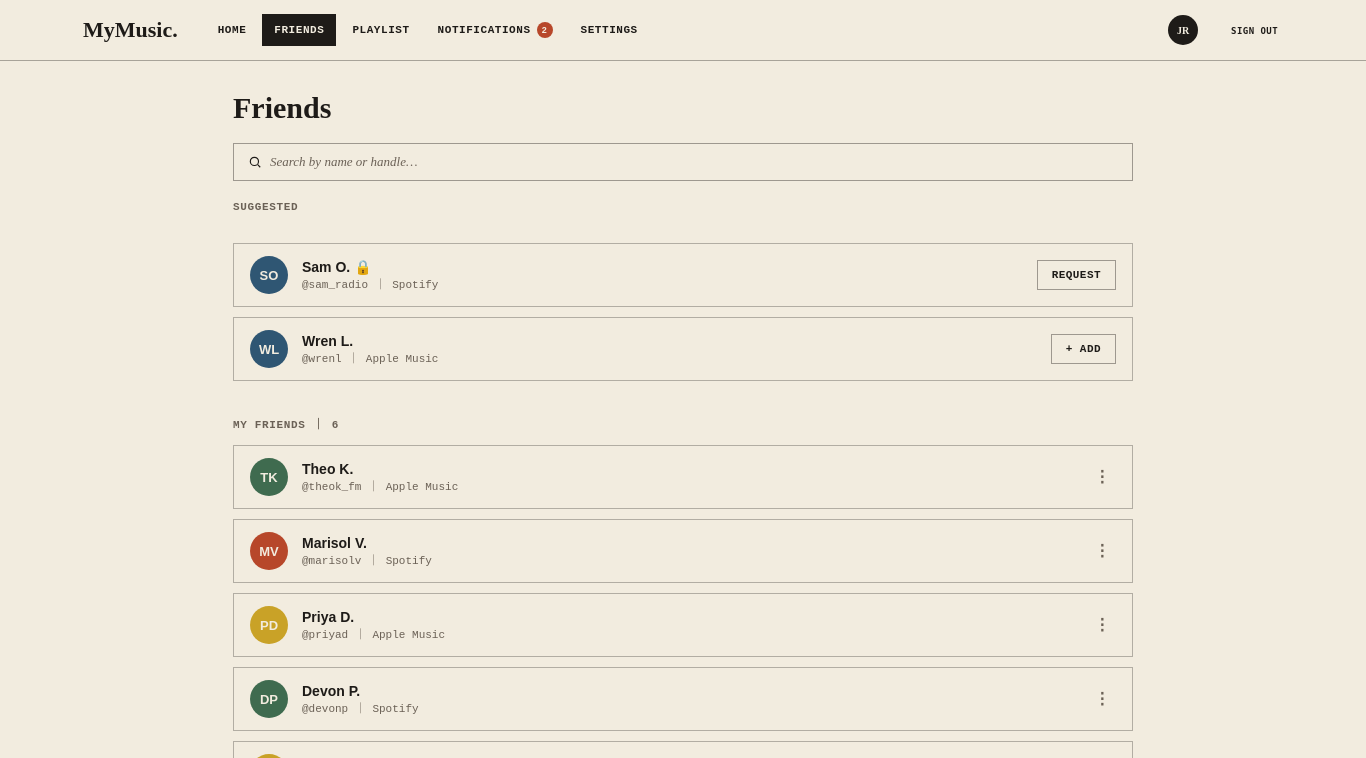
Test: friends › removes a friend only after the confirmation is accepted
What coordinates should you click on to do the following:
click the button named "Options for Theo K."
I would click on:
 (1102, 477)
Its box is [1088,469,1116,485].
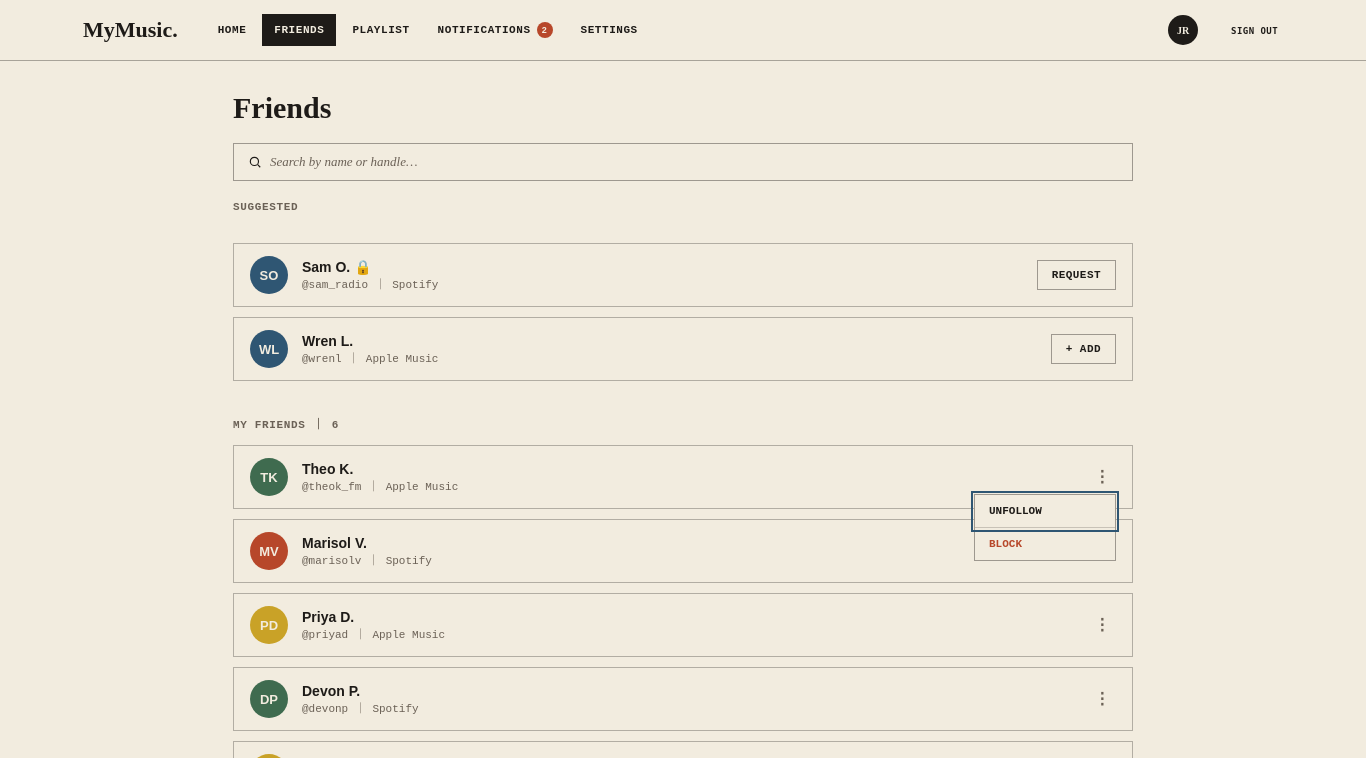
What coordinates should you click on to do the following:
click the menu item "UNFOLLOW"
I would click on:
 (1045, 512)
Its box is [975,495,1115,528].
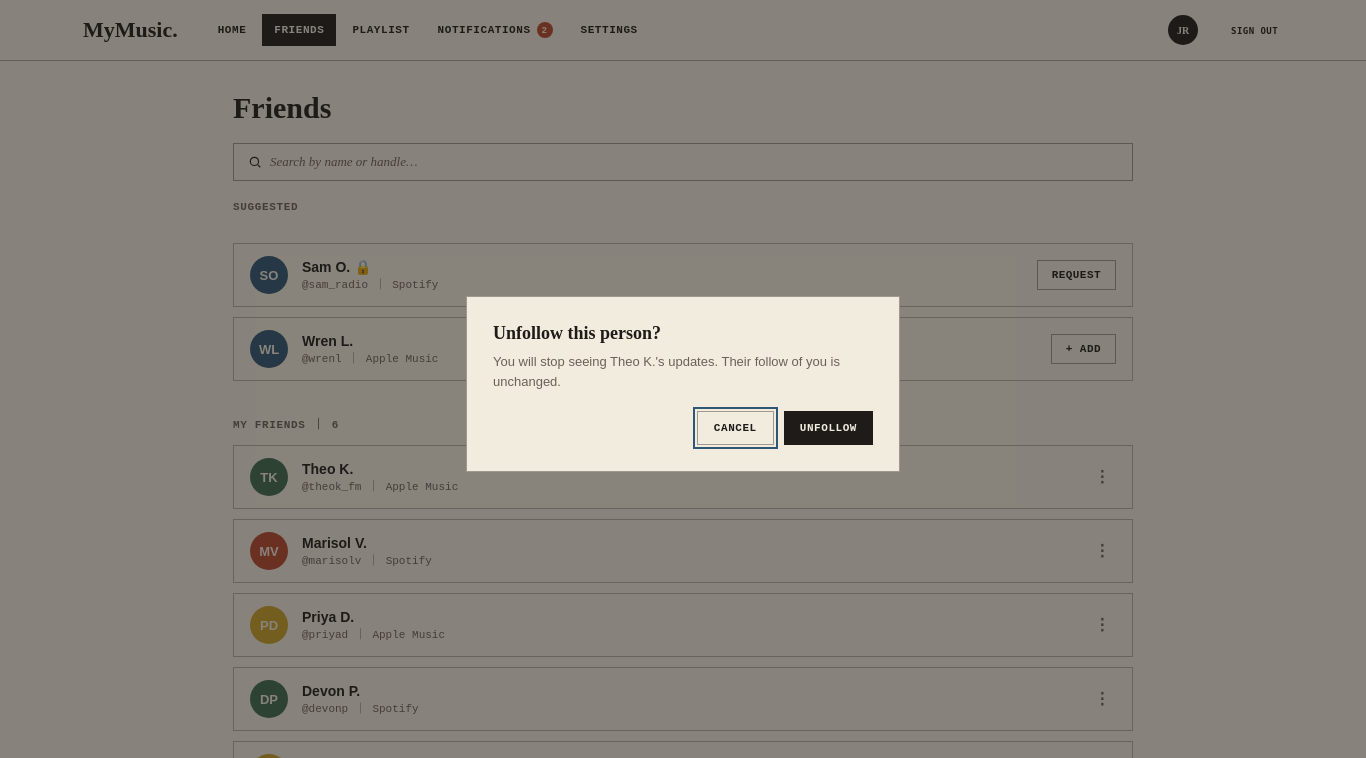
Expected: the text "Unfollowed Theo K." is not shown
What coordinates should you click on to do the following:
click the button "UNFOLLOW"
I would click on:
 (828, 428)
Its box is [784,411,873,445].
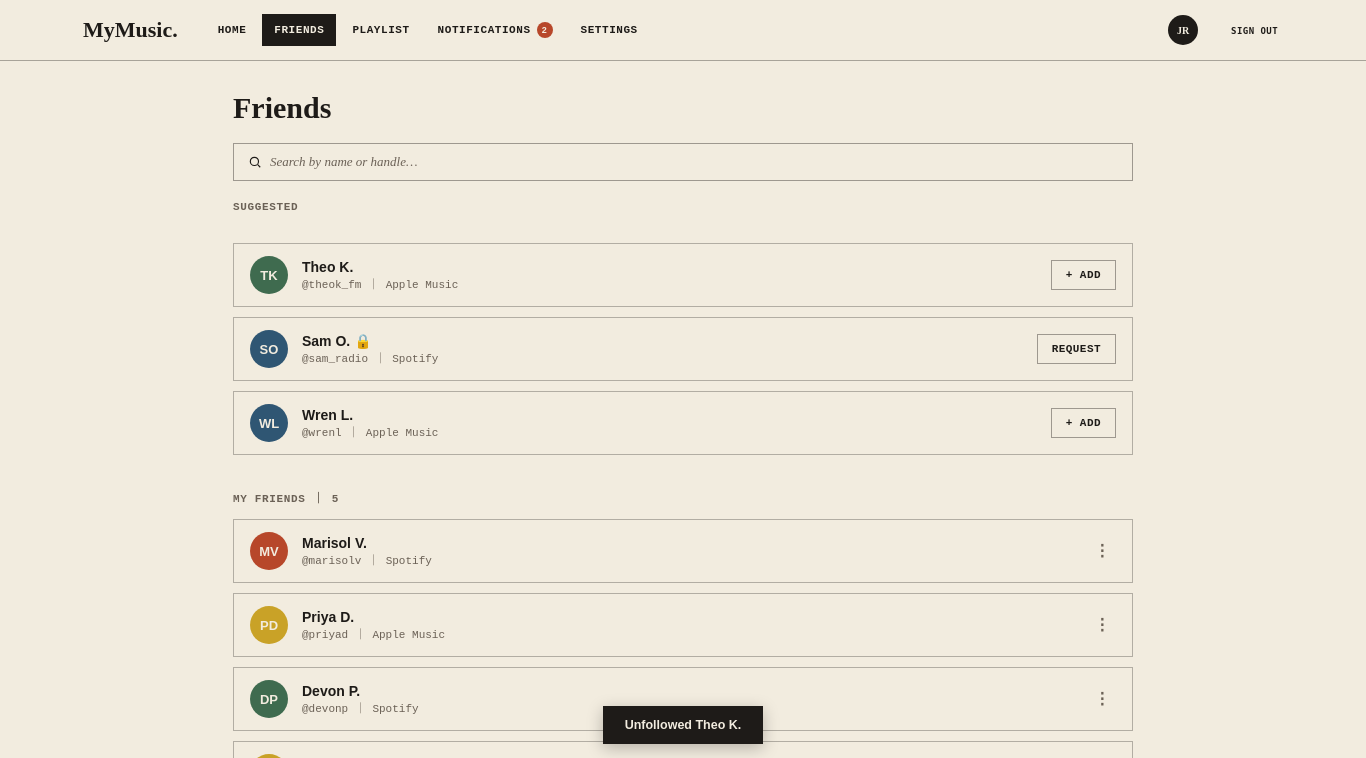
Now the text "Unfollowed Theo K." is shown, box [603,706,763,744]
Now the heading "MY FRIENDS ｜ 5" is shown, box [233,493,339,505]
